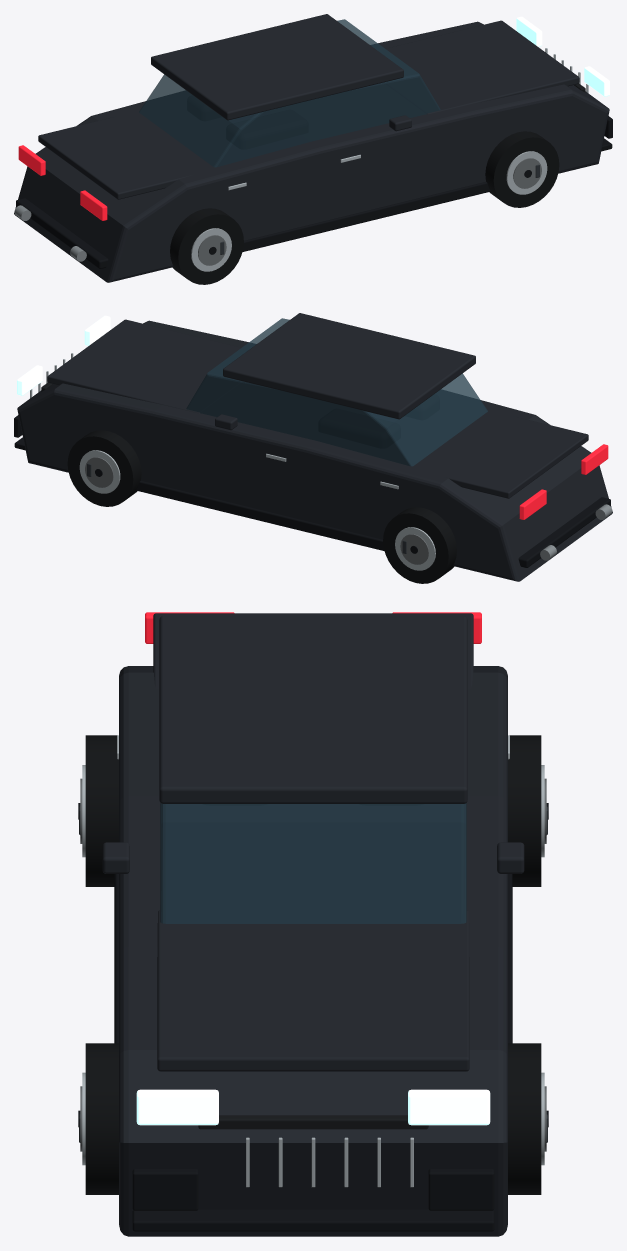
Rendered from rr_ghost_i.glb.
The picture shows the model from 3 angles, top to bottom: view 1: azimuth 30°, elevation 25°; view 2: azimuth 150°, elevation 25°; view 3: azimuth 270°, elevation 25°; orthographic projection. The views are drawn at different scales.
Parts seen in each view (by area): view 1: sculpted_body, roof, glasshouse, hood_center, rear_deck, rear_right_wheel_tire, front_right_wheel_tire, side_skirt_1, seat_1, rear_diffuser, rear_right_wheel_rim, front_right_wheel_rim (+7 smaller); view 2: sculpted_body, roof, glasshouse, hood_center, rear_deck, rear_left_wheel_tire, front_left_wheel_tire, side_skirt_-1, seat_-1, rear_diffuser, rear_left_wheel_rim, front_left_wheel_rim (+7 smaller); view 3: sculpted_body, roof, hood_center, glasshouse, front_splitter, front_left_wheel_tire, front_right_wheel_tire, rear_left_wheel_tire, rear_right_wheel_tire, headlight_left, headlight_right, front_grille (+7 smaller).
Boxes of the visible parts, left/top/right/bottom form: sculpted_body: left=14, top=21, right=609, bottom=282; roof: left=151, top=14, right=403, bottom=120; glasshouse: left=139, top=19, right=440, bottom=167; hood_center: left=379, top=20, right=579, bottom=114; rear_deck: left=38, top=116, right=195, bottom=199; rear_right_wheel_tire: left=170, top=208, right=243, bottom=284; front_right_wheel_tire: left=485, top=131, right=559, bottom=207; side_skirt_1: left=242, top=182, right=490, bottom=251; seat_1: left=226, top=110, right=307, bottom=148; rear_diffuser: left=16, top=198, right=108, bottom=268; rear_right_wheel_rim: left=191, top=228, right=231, bottom=271; front_right_wheel_rim: left=506, top=151, right=547, bottom=194; sculpted_body: left=17, top=320, right=612, bottom=581; roof: left=223, top=313, right=475, bottom=419; glasshouse: left=186, top=318, right=487, bottom=466; hood_center: left=47, top=319, right=247, bottom=413; rear_deck: left=431, top=415, right=588, bottom=498; rear_left_wheel_tire: left=383, top=507, right=456, bottom=583; front_left_wheel_tire: left=67, top=430, right=141, bottom=506; side_skirt_-1: left=136, top=481, right=384, bottom=550; seat_-1: left=319, top=409, right=400, bottom=447; rear_diffuser: left=518, top=497, right=610, bottom=567; rear_left_wheel_rim: left=395, top=527, right=435, bottom=570; front_left_wheel_rim: left=79, top=450, right=120, bottom=493; sculpted_body: left=119, top=666, right=507, bottom=1236; roof: left=159, top=616, right=467, bottom=803; hood_center: left=157, top=910, right=469, bottom=1071; glasshouse: left=160, top=803, right=466, bottom=923; front_splitter: left=132, top=1209, right=494, bottom=1231; front_left_wheel_tire: left=508, top=1043, right=541, bottom=1194; front_right_wheel_tire: left=85, top=1043, right=118, bottom=1194; rear_left_wheel_tire: left=508, top=735, right=541, bottom=886; rear_right_wheel_tire: left=85, top=735, right=118, bottom=886; headlight_left: left=408, top=1089, right=490, bottom=1125; headlight_right: left=136, top=1089, right=218, bottom=1125; front_grille: left=198, top=1115, right=428, bottom=1129.
Size of the model in its own units: 5.77 by 1.56 by 2.23.
